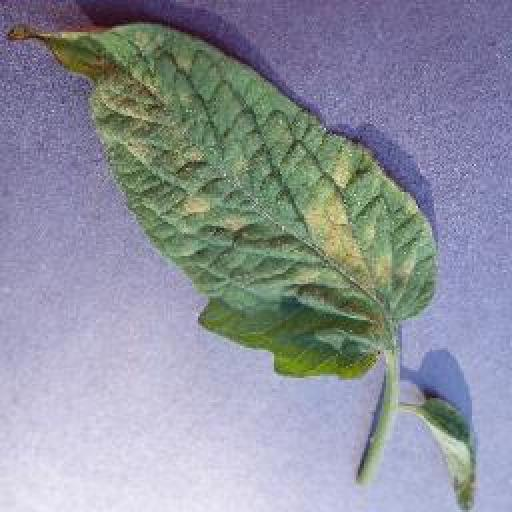Leaf Mold: (11, 21, 440, 383)
